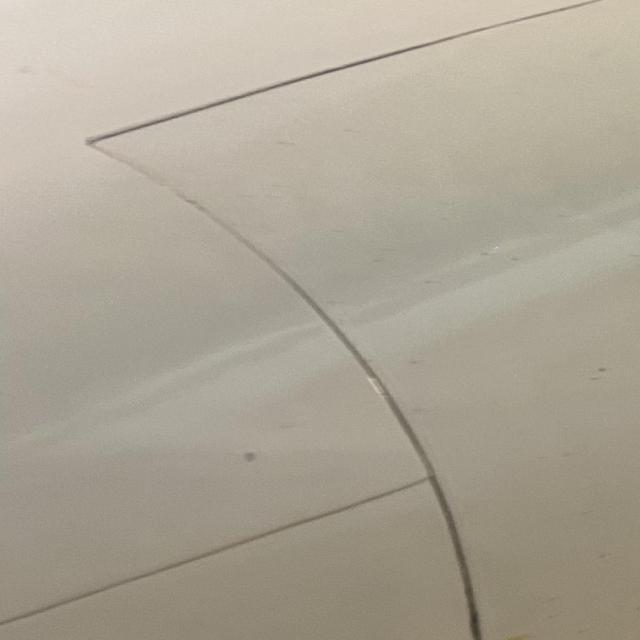Paint-off: (243, 451, 259, 464)
